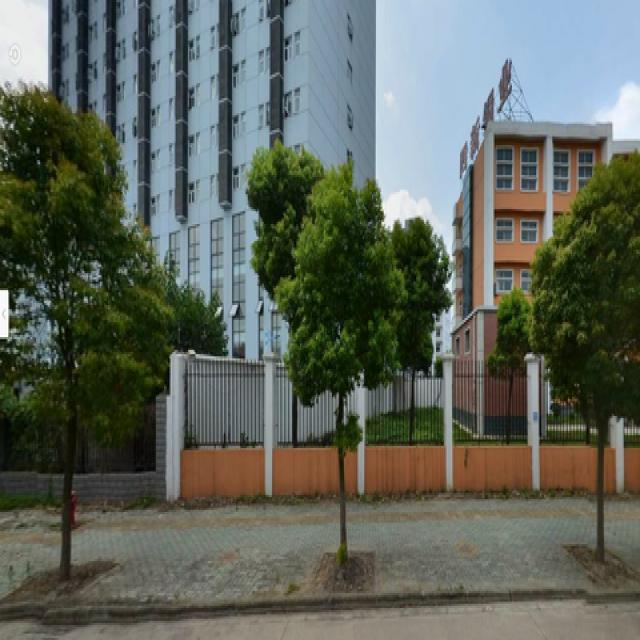cinn: (16, 96, 121, 553), (558, 194, 638, 587), (307, 215, 372, 566)
